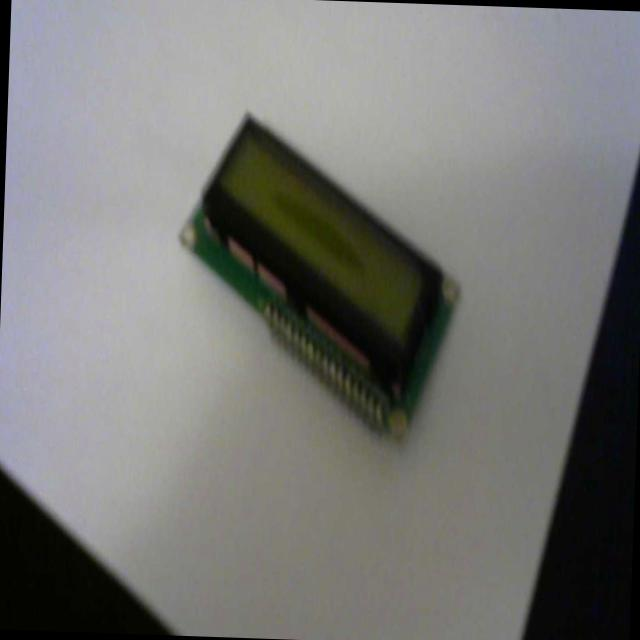lcd: (162, 83, 473, 459)
